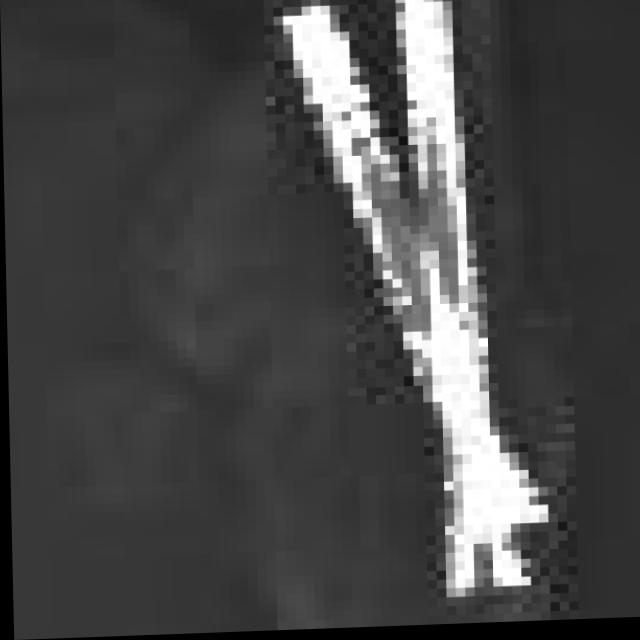fracture: (4, 0, 640, 640)
